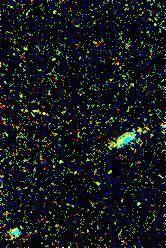star: (123, 116, 153, 146)
